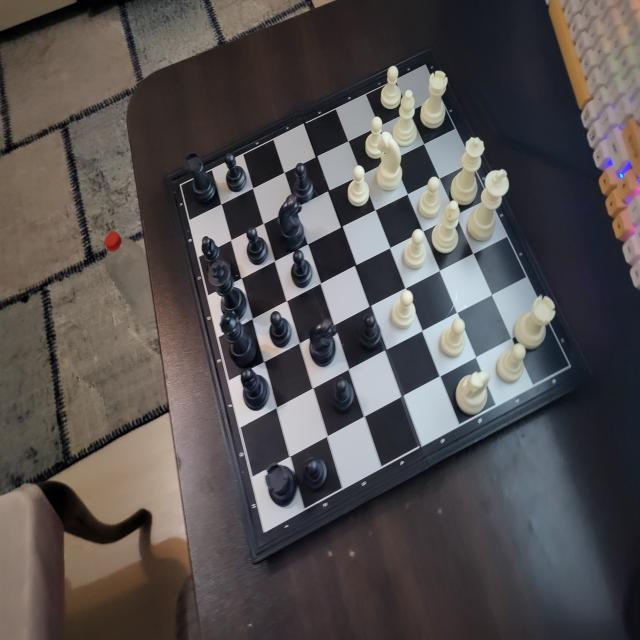black-bishop: (240, 368, 270, 410), (201, 235, 221, 262)
black-king: (206, 258, 246, 315)
black-knight: (307, 316, 338, 367), (278, 194, 306, 248)
black-pawn: (330, 375, 356, 417), (244, 225, 268, 268), (268, 311, 294, 348), (290, 247, 313, 288), (291, 162, 315, 201), (224, 152, 247, 192), (302, 456, 328, 491), (358, 313, 382, 349)
black-queen: (219, 310, 258, 367)
black-rook: (184, 151, 218, 204), (265, 461, 297, 506)
chess-board: (173, 55, 578, 544)
white-bishop: (430, 200, 460, 254), (392, 89, 418, 148)
white-king: (467, 168, 510, 242)
white-knight: (454, 369, 492, 416)
white-pawn: (496, 342, 527, 383), (438, 318, 467, 359), (378, 64, 402, 110), (346, 164, 370, 209), (390, 289, 416, 330), (403, 228, 428, 269), (419, 176, 442, 220), (365, 116, 383, 160)
white-queen: (450, 136, 486, 203)
white-rook: (514, 294, 556, 349), (419, 70, 448, 131), (376, 131, 403, 194)
